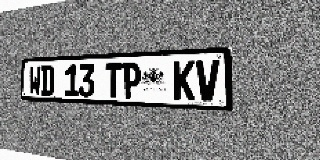1: (64, 64, 79, 97)
3: (79, 64, 94, 97)
D: (41, 65, 54, 96)
K: (173, 60, 195, 101)
P: (123, 62, 141, 99)
T: (105, 63, 122, 98)
V: (196, 59, 220, 101)
W: (29, 66, 41, 95)
